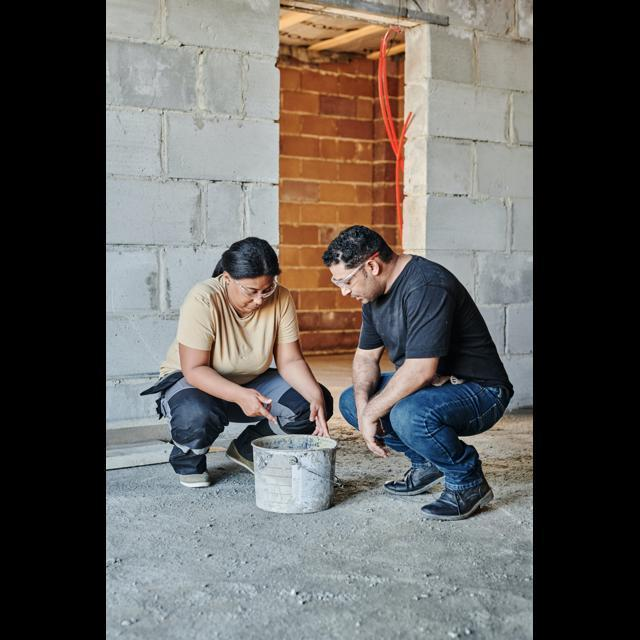Pessoa: (323, 225, 512, 519), (141, 237, 332, 486)
